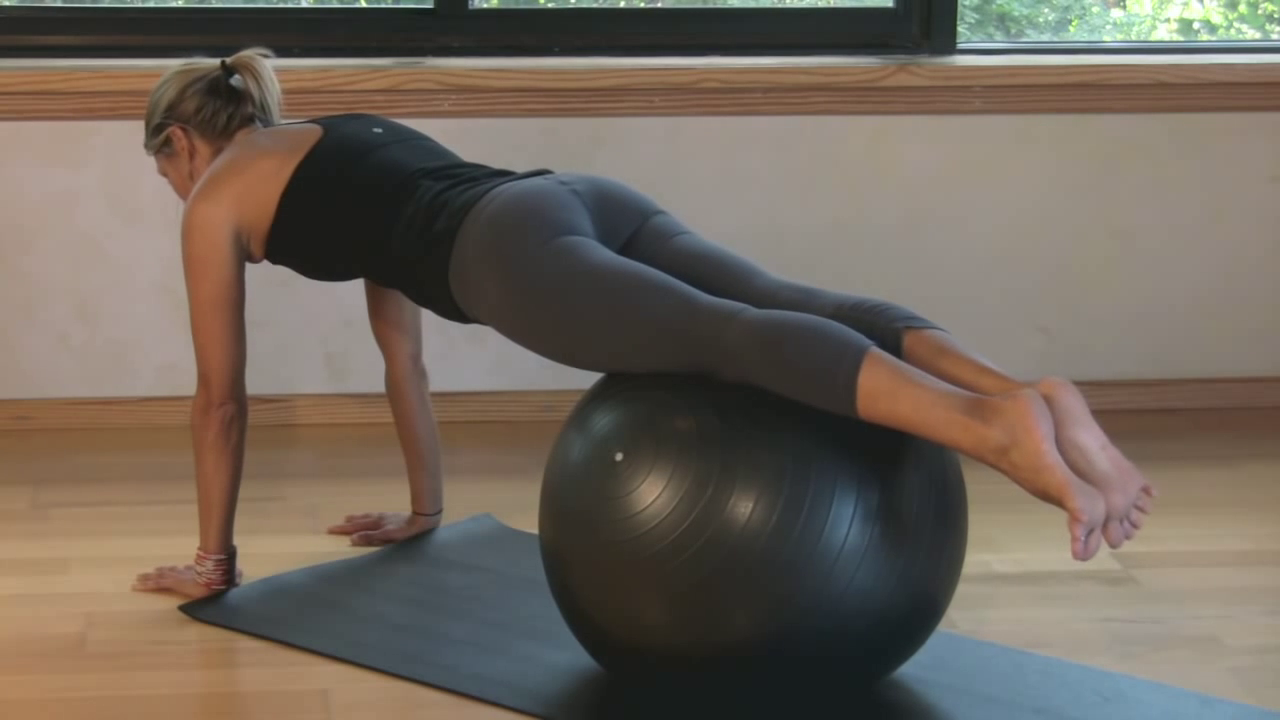yogaball: (534, 367, 980, 713)
